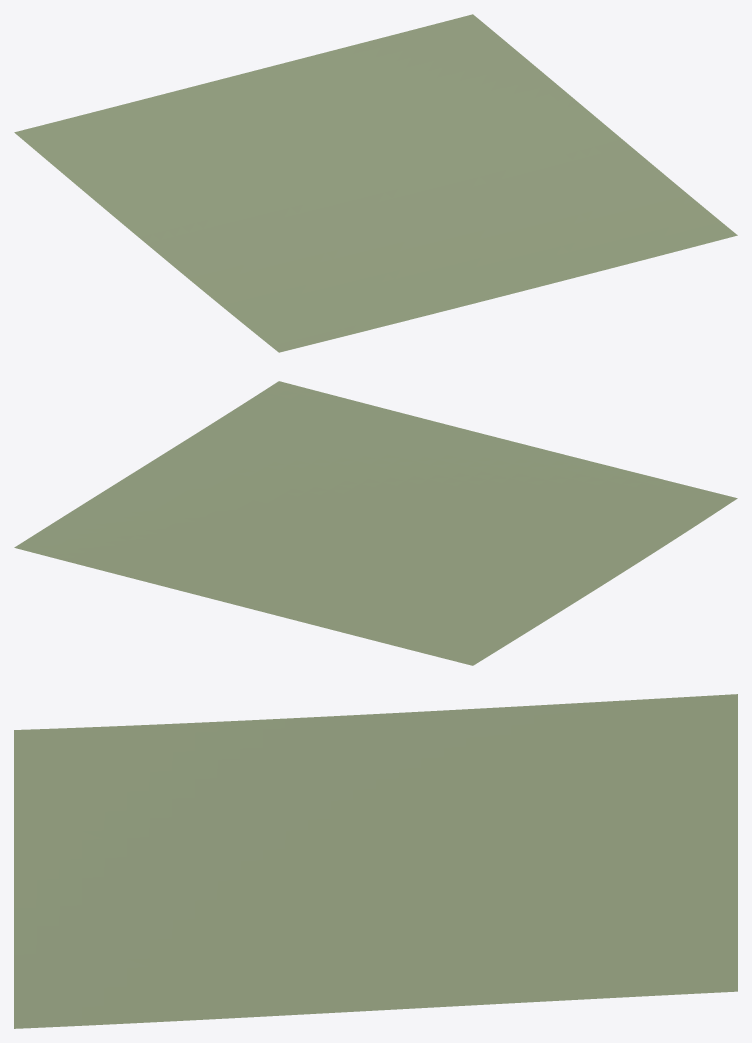
Rendered from desert-7-18.glb.
The picture shows the model from 3 angles, top to bottom: view 1: azimuth 30°, elevation 25°; view 2: azimuth 150°, elevation 25°; view 3: azimuth 270°, elevation 25°; orthographic projection. The views are drawn at different scales.
Parts seen in each view (by area): view 1: desert-7-18; view 2: desert-7-18; view 3: desert-7-18.
Part boxes in pixels (<box>): desert-7-18: <box>14,14,737,352</box>; desert-7-18: <box>14,381,737,665</box>; desert-7-18: <box>14,694,737,1028</box>.
Size of the model in its own units: 512 by 34.66 by 512.
